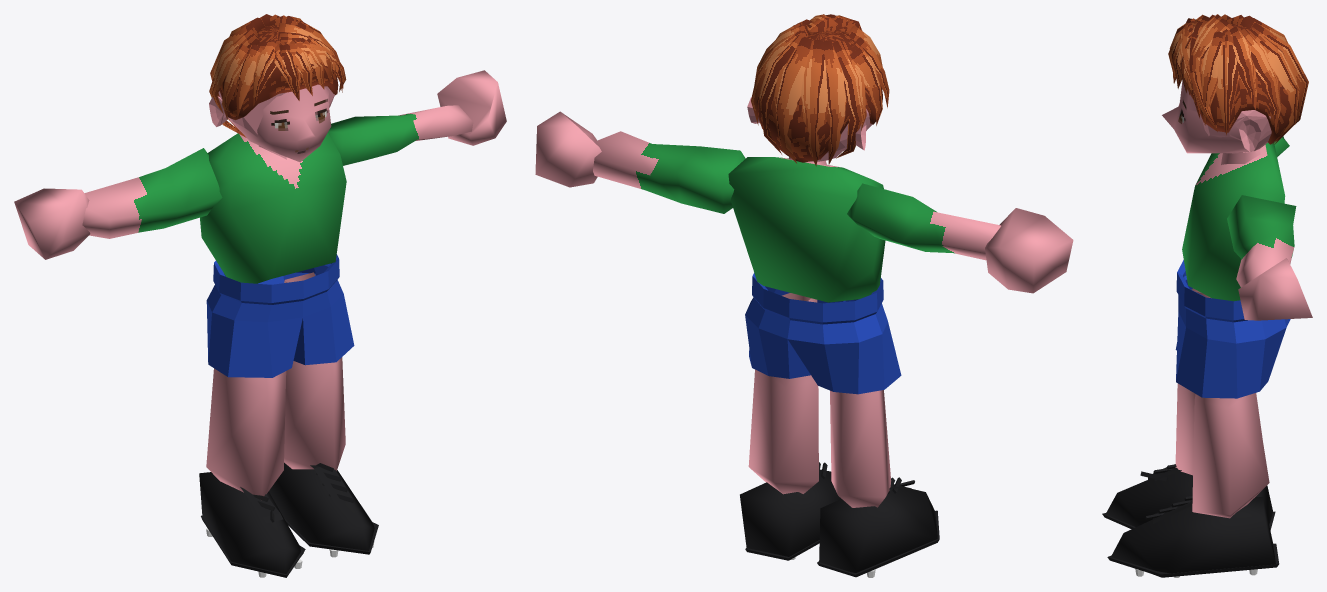
Rendered from 01-liso-repartido_ruivo.glb.
3 views of the same model, side by side, from view 1: azimuth 30°, elevation 25°; view 2: azimuth 150°, elevation 25°; view 3: azimuth 270°, elevation 25° (orthographic). The views are drawn at different scales.
Visible parts, largest first — view 1: Camisa_Tronco, Bermuda, Cabelo, Perna.R, Braco.R, Perna.L, Chuteira.R, Chuteira.L, Braco.L, Cabeca, Mao.R, Mao.L (+3 smaller); view 2: Camisa_Tronco, Cabelo, Bermuda, Perna.L, Braco.L, Chuteira.R, Perna.R, Braco.R, Mao.R, Chuteira.L, Mao.L, Chuteira_Sola.R; view 3: Cabelo, Bermuda, Chuteira.L, Camisa_Tronco, Perna.L, Braco.L, Mao.L, Chuteira.R, Cabeca, Perna.R, Chuteira_Sola.L, Cranio (+4 smaller).
Boxes of the visible parts, x1,y1,x2,y2 form: Camisa_Tronco: [200, 133, 346, 283]; Bermuda: [206, 254, 354, 377]; Cabelo: [209, 14, 346, 137]; Perna.R: [206, 368, 286, 500]; Braco.R: [82, 148, 222, 238]; Perna.L: [284, 272, 345, 471]; Chuteira.R: [199, 472, 303, 573]; Chuteira.L: [269, 462, 374, 550]; Braco.L: [328, 105, 473, 165]; Cabeca: [231, 84, 331, 162]; Mao.R: [14, 188, 90, 259]; Mao.L: [437, 70, 506, 145]; Camisa_Tronco: [728, 157, 885, 302]; Cabelo: [751, 14, 889, 166]; Bermuda: [745, 273, 901, 394]; Perna.L: [748, 293, 818, 494]; Braco.L: [593, 131, 745, 213]; Chuteira.R: [819, 484, 937, 572]; Perna.R: [830, 390, 891, 507]; Braco.R: [847, 183, 1000, 260]; Mao.R: [985, 208, 1073, 293]; Chuteira.L: [740, 469, 841, 556]; Mao.L: [535, 111, 601, 187]; Chuteira_Sola.R: [817, 510, 939, 577]; Cabelo: [1168, 14, 1308, 144]; Bermuda: [1175, 260, 1290, 398]; Chuteira.L: [1111, 497, 1276, 577]; Camisa_Tronco: [1182, 142, 1285, 301]; Perna.L: [1192, 393, 1269, 518]; Braco.L: [1227, 195, 1296, 287]; Mao.L: [1238, 258, 1312, 320]; Chuteira.R: [1106, 467, 1272, 526]; Cabeca: [1162, 80, 1254, 153]; Perna.R: [1175, 288, 1262, 475]; Chuteira_Sola.L: [1107, 543, 1279, 577]; Cranio: [1202, 110, 1271, 153].
Size of the model in its own units: 0.4523 by 0.4524 by 0.1617.
3 materials, 3 textured.
